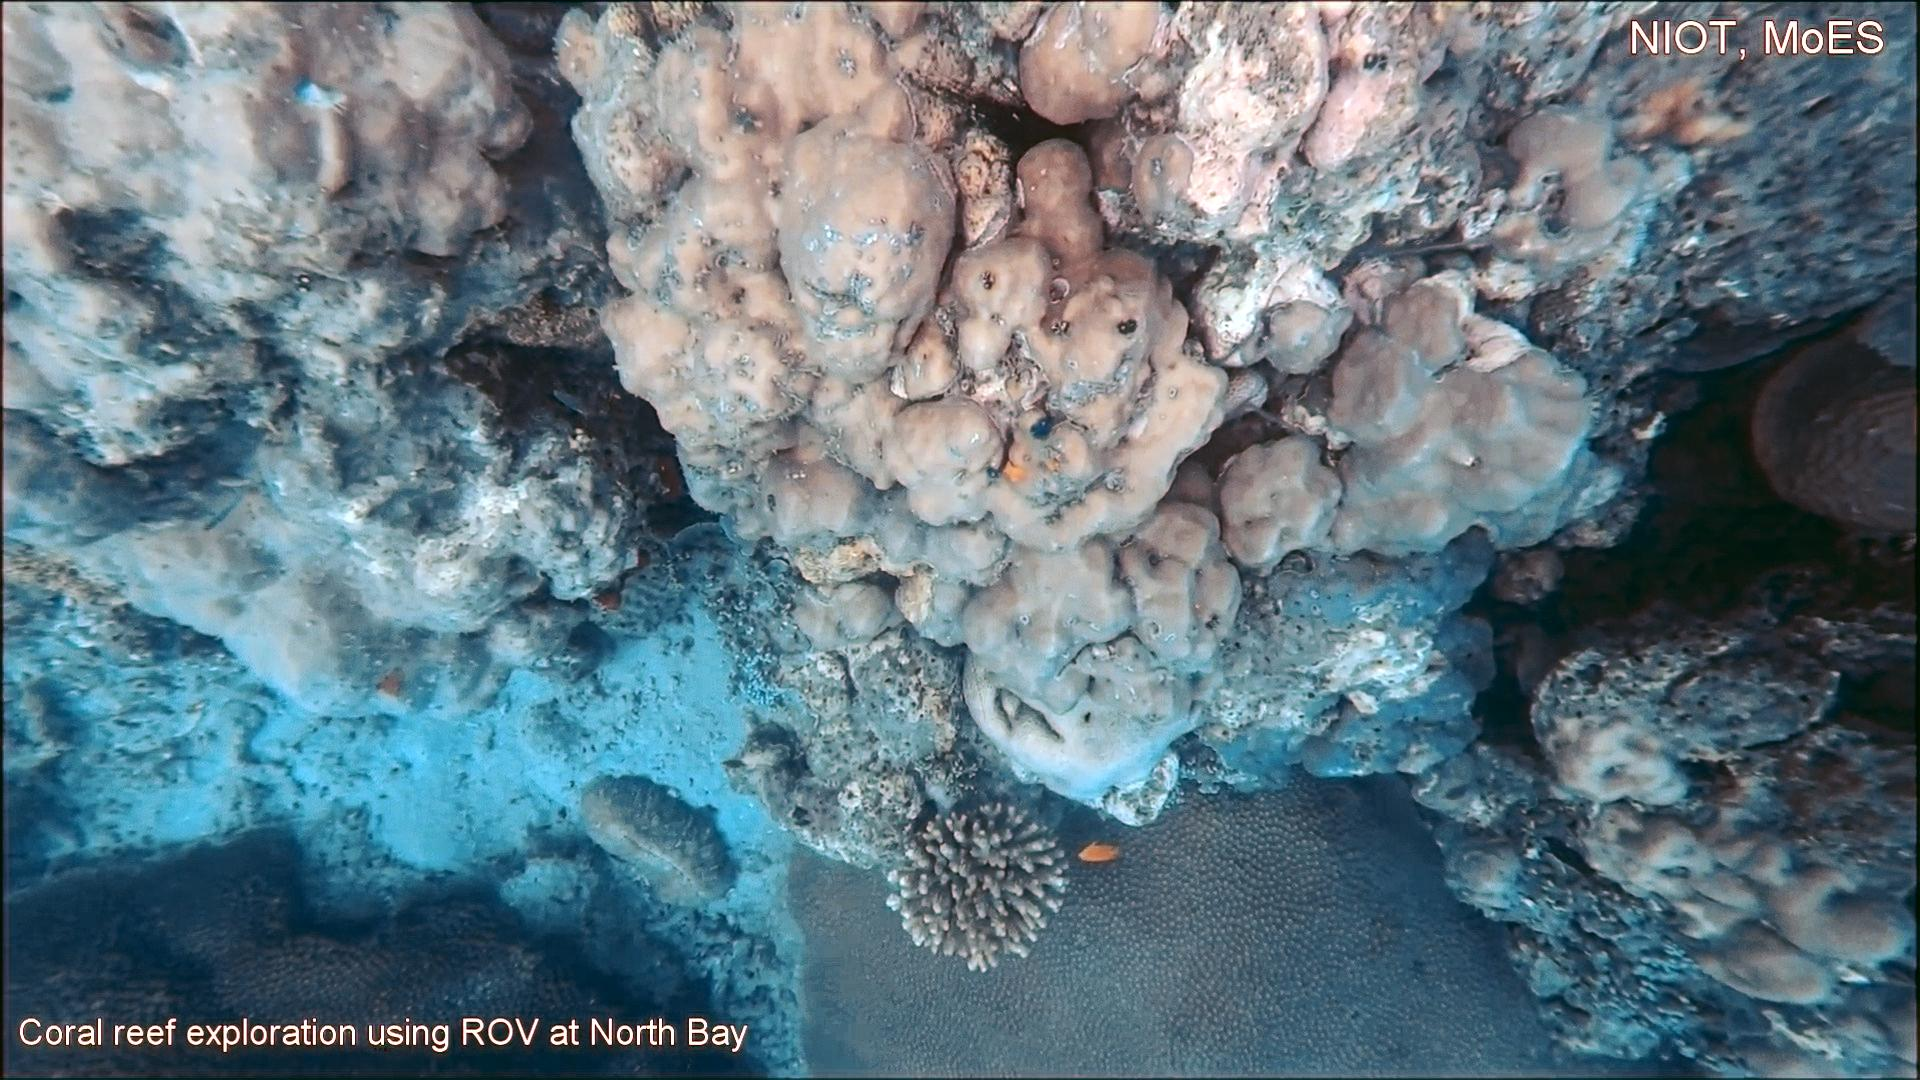Meandrina meandrites: (1745, 318, 1920, 539)
